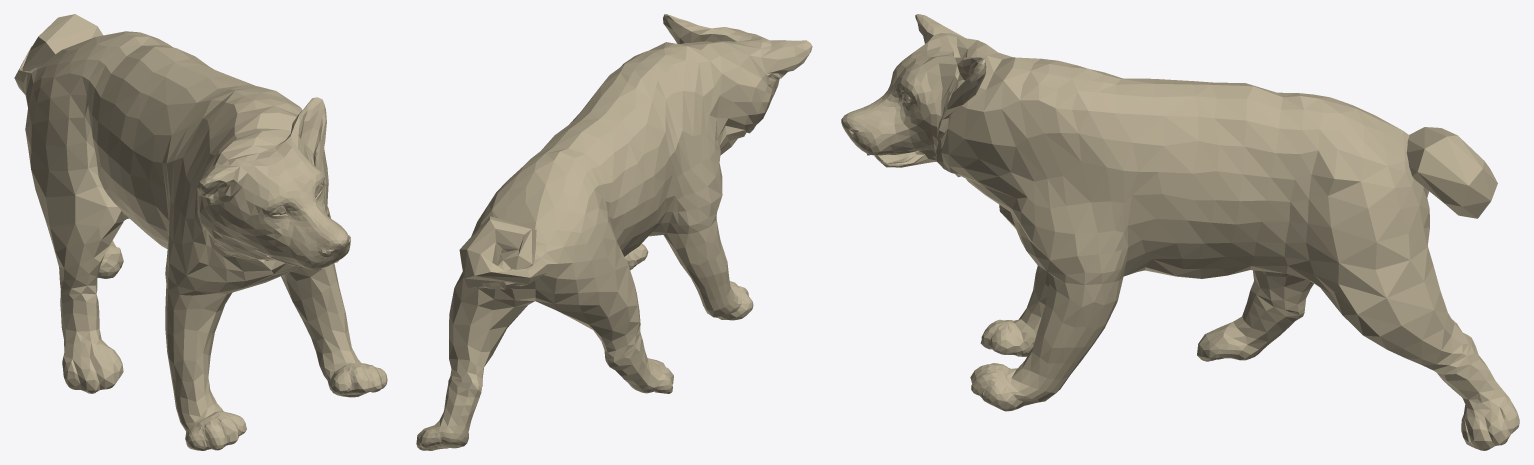
The picture shows the model from 3 angles, left to right: view 1: azimuth 30°, elevation 25°; view 2: azimuth 150°, elevation 25°; view 3: azimuth 270°, elevation 25°; orthographic projection. The views are drawn at different scales.
Visible parts, largest first — view 1: world; view 2: world; view 3: world.
Part boxes in pixels (x1,y1,x2,y2): world: (14, 14, 387, 450); world: (416, 14, 812, 450); world: (841, 14, 1519, 450).
Size of the model in its own units: 0.4885 by 0.7676 by 1.28.
